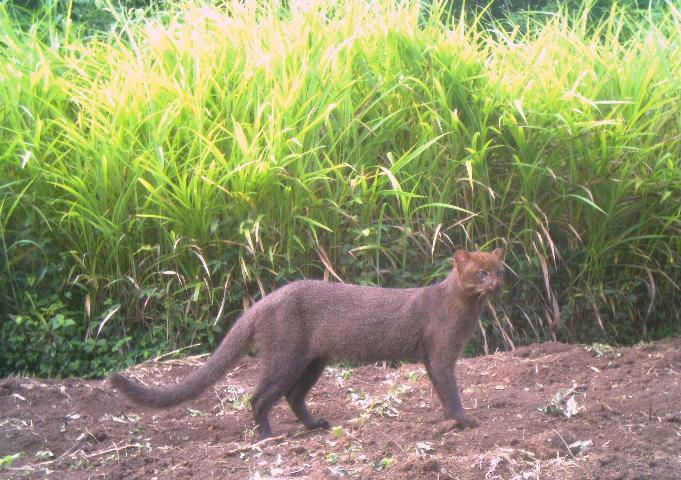Jaguarundi: (101, 244, 526, 444)
